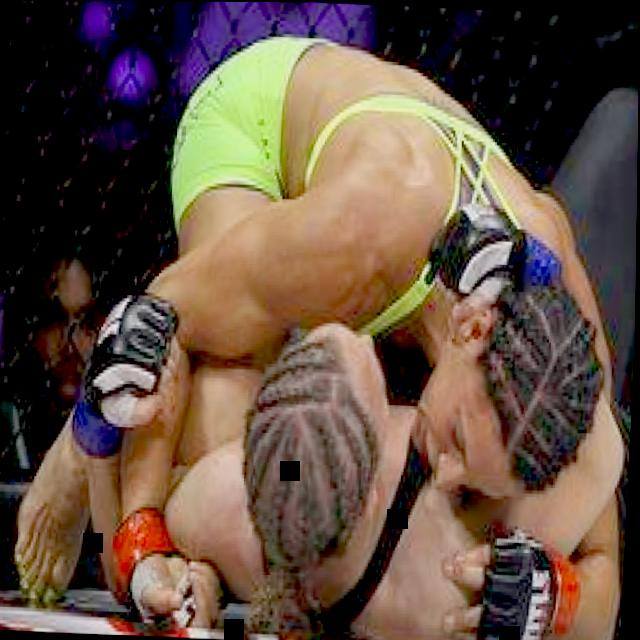Fall-Detected: (0, 2, 640, 640)
